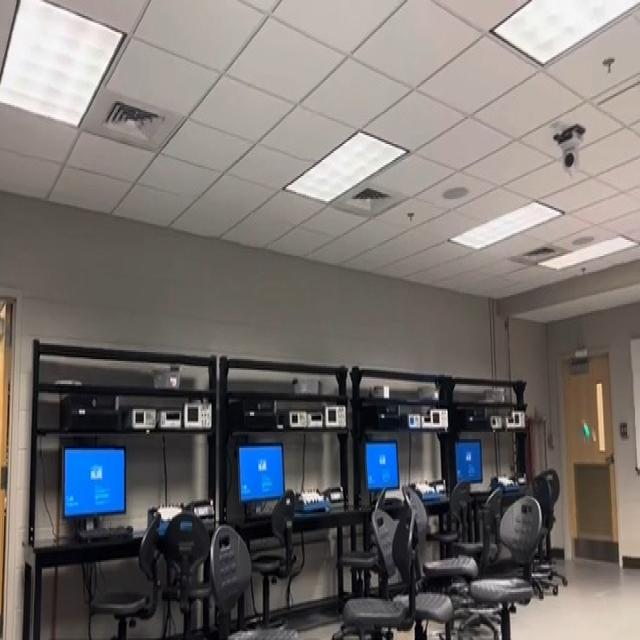drone: (568, 406, 600, 454)
